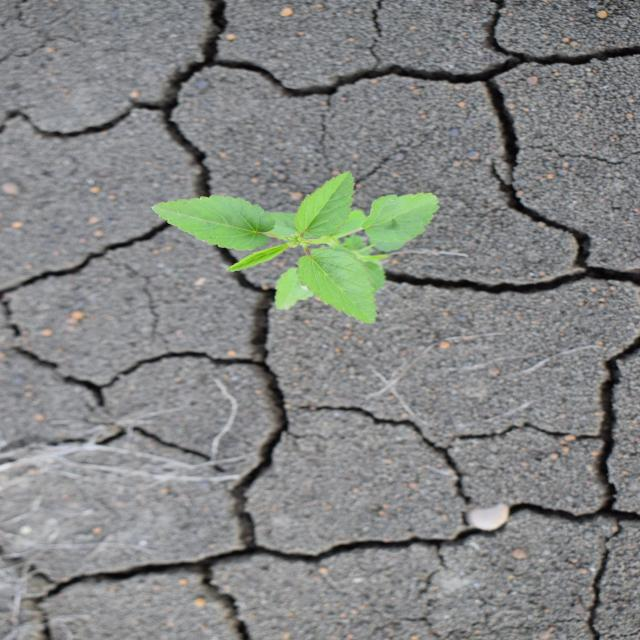PricklySida: (149, 170, 442, 326)
